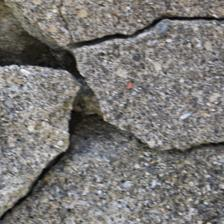Crack: (9, 50, 153, 168), (57, 0, 103, 96), (90, 97, 132, 125)
